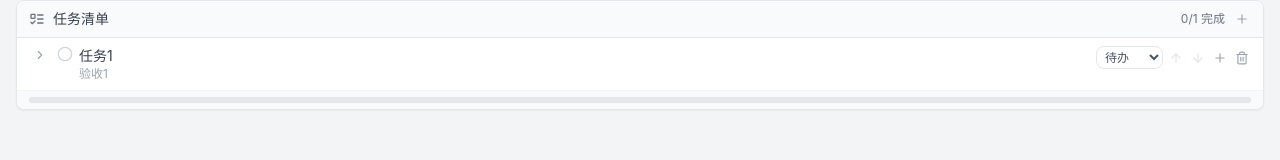
Test case: TaskListPanel › F7：delete 的 200 + success:false 也算失败，同样在面板上可见
Click the button named "删除" at (1242, 58), box [1233,48,1251,66]
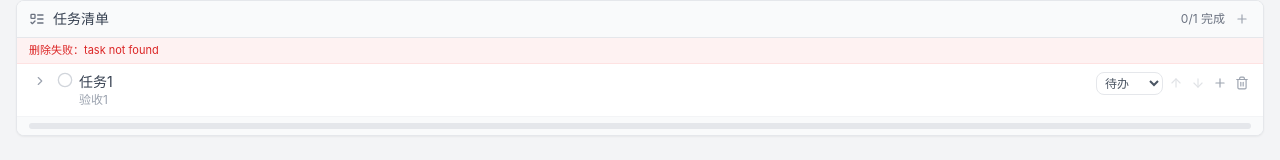
Now the text "删除失败：task not found" is shown, box [17,38,1263,64]
